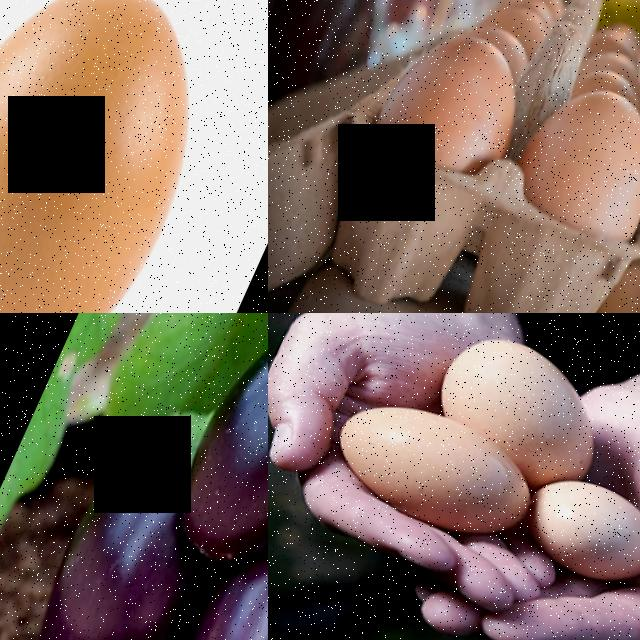egg_: (0, 0, 253, 313), (318, 374, 546, 560), (368, 11, 544, 192), (427, 316, 619, 480), (503, 66, 640, 255), (512, 458, 640, 601)
eggplant: (0, 494, 226, 640), (164, 313, 268, 578)
